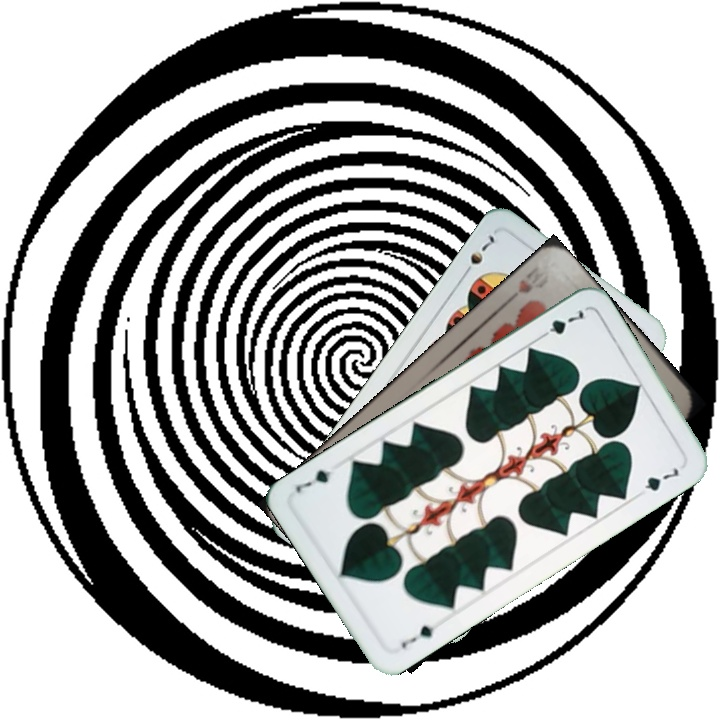G7: (534, 305, 587, 343), (397, 621, 437, 651)
H10: (501, 274, 536, 307)
S7: (458, 230, 498, 280)
